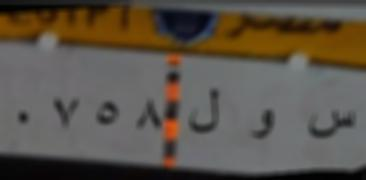0: (11, 102, 33, 132)
5: (94, 95, 119, 130)
7: (48, 88, 82, 136)
8: (132, 97, 162, 138)
laam: (187, 82, 223, 140)
seen: (305, 103, 361, 140)
waw: (248, 102, 278, 146)
